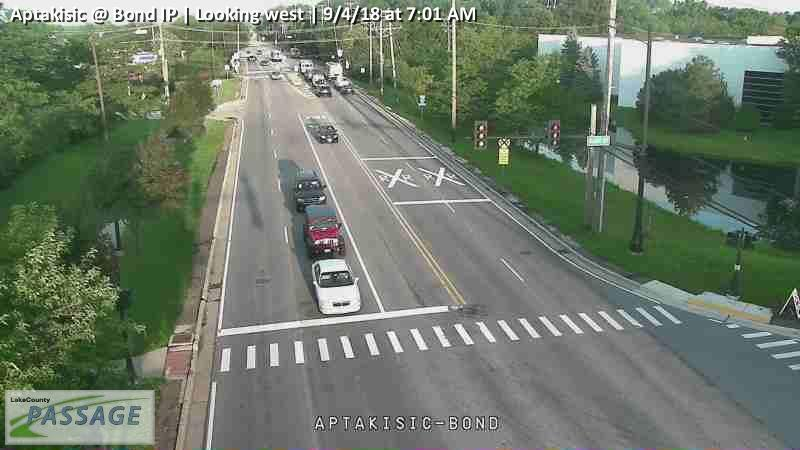SUV: (303, 204, 345, 259), (294, 169, 327, 212)
Sedan: (311, 258, 362, 315), (319, 125, 338, 144)
